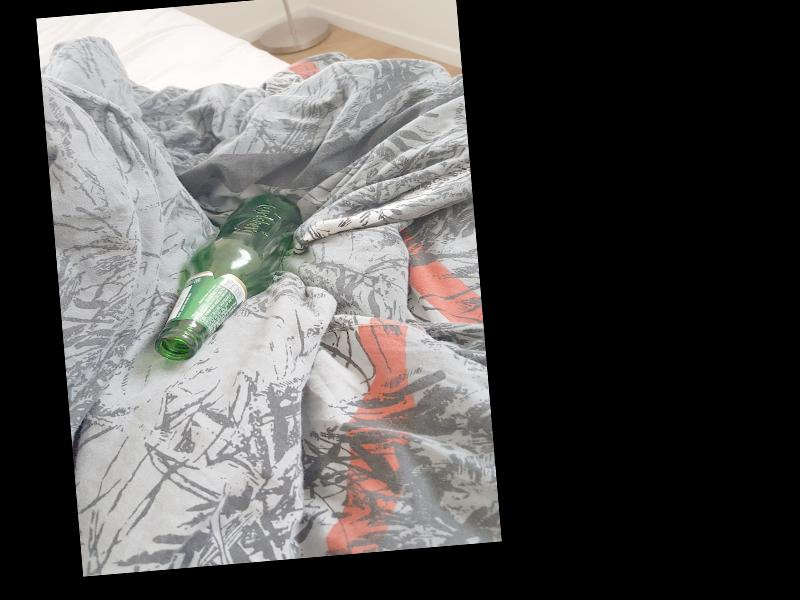Beer: (145, 192, 311, 364)
